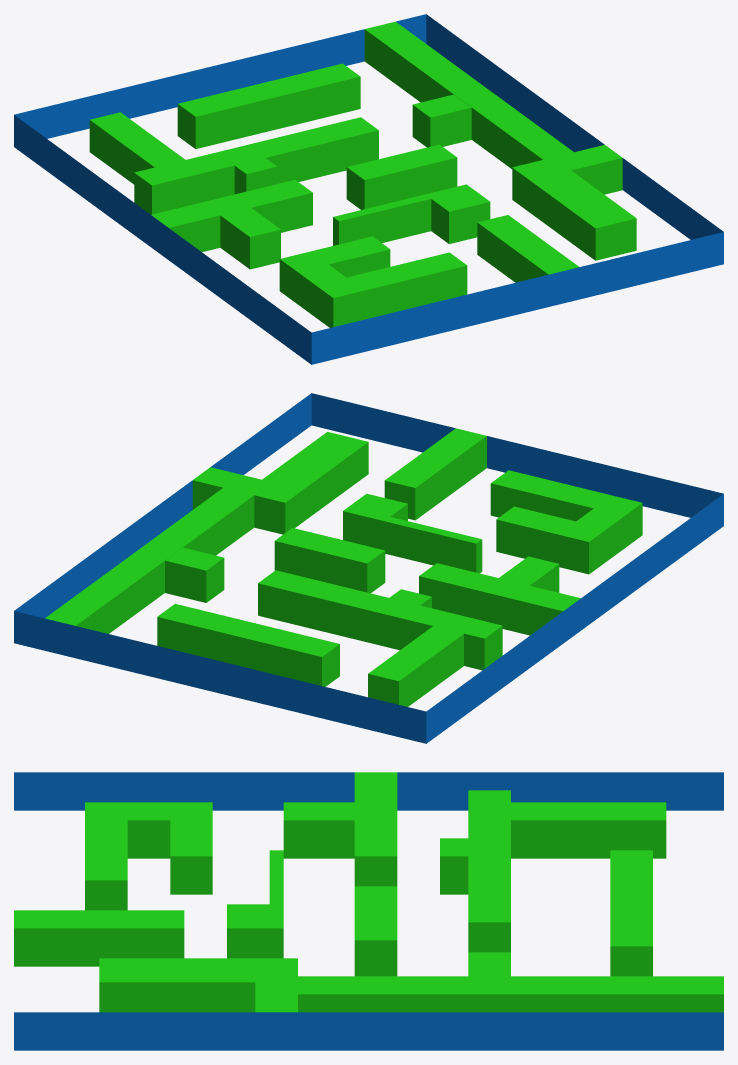
Rendered from wall.obj.
The picture shows the model from 3 angles, top to bottom: view 1: azimuth 30°, elevation 25°; view 2: azimuth 150°, elevation 25°; view 3: azimuth 270°, elevation 25°; orthographic projection. The views are drawn at different scales.
Parts seen in each view (by area): view 1: 平面.001, 平面.002, 立方体.005, 平面.004, 立方体.002, 立方体.001, 平面.003, 立方体.007, 立方体, 立方体.003, 立方体.013, 立方体.012 (+9 smaller); view 2: 平面.002, 平面.001, 立方体.005, 平面.004, 立方体.002, 立方体.001, 平面.003, 立方体.003, 立方体.012, 立方体.009, 立方体.013, 立方体.007 (+8 smaller); view 3: 平面.003, 平面.004, 立方体.002, 立方体.012, 立方体, 立方体.006, 立方体.005, 立方体.001, 立方体.003, 立方体.007, 立方体.017, 立方体.013 (+7 smaller).
Part boxes in pixels (x1,y1,x2,y2): 平面.001: [311, 232, 723, 364]; 平面.002: [14, 14, 426, 138]; 立方体.005: [134, 117, 378, 214]; 平面.004: [14, 115, 311, 364]; 立方体.002: [364, 21, 573, 168]; 立方体.001: [177, 63, 360, 148]; 平面.003: [426, 14, 723, 239]; 立方体.007: [315, 252, 467, 327]; 立方体: [530, 170, 636, 260]; 立方体.003: [151, 180, 312, 251]; 立方体.013: [346, 144, 457, 209]; 立方体.012: [477, 215, 579, 282]; 平面.002: [14, 611, 426, 743]; 平面.001: [311, 393, 723, 517]; 立方体.005: [258, 570, 502, 670]; 平面.004: [426, 494, 723, 743]; 立方体.002: [45, 487, 254, 633]; 立方体.001: [157, 604, 339, 686]; 平面.003: [14, 393, 311, 618]; 立方体.003: [419, 563, 580, 635]; 立方体.012: [384, 428, 486, 520]; 立方体.009: [496, 506, 606, 574]; 立方体.013: [274, 528, 385, 593]; 立方体.007: [490, 470, 642, 547]; 平面.003: [14, 1012, 723, 1050]; 平面.004: [14, 772, 723, 810]; 立方体.002: [298, 976, 723, 1012]; 立方体.012: [14, 910, 184, 966]; 立方体: [99, 958, 255, 1012]; 立方体.006: [510, 802, 666, 858]; 立方体.005: [468, 790, 510, 952]; 立方体.001: [610, 850, 652, 976]; 立方体.003: [354, 772, 397, 886]; 立方体.007: [85, 802, 127, 910]; 立方体.017: [283, 802, 354, 858]; 立方体.013: [354, 886, 397, 976].
Bounding box in the file's own units: 400 × 30 × 500.
